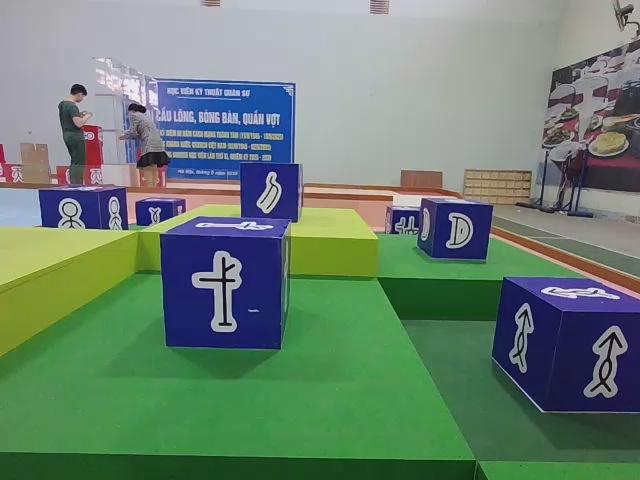R2 Real Blue: (492, 277, 635, 414), (160, 217, 293, 350), (417, 197, 493, 263), (38, 186, 128, 231), (239, 162, 302, 226), (135, 198, 187, 227), (384, 205, 421, 235)
